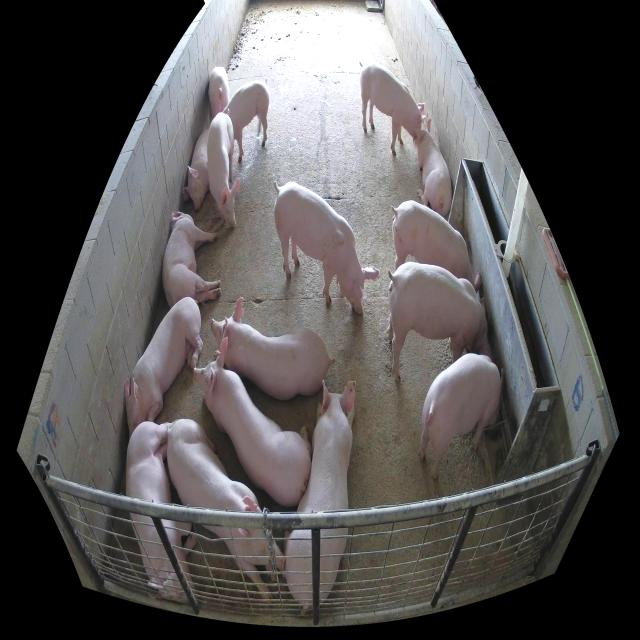pig: (167, 418, 285, 600), (192, 336, 310, 507), (282, 377, 356, 609), (126, 416, 204, 605), (274, 181, 379, 315), (386, 262, 490, 386), (211, 294, 330, 396), (418, 352, 504, 483), (125, 299, 203, 438), (393, 201, 481, 295), (360, 60, 428, 154), (162, 211, 221, 307), (207, 112, 241, 231), (222, 81, 270, 162), (413, 119, 452, 217), (181, 127, 210, 212), (208, 67, 230, 120)
